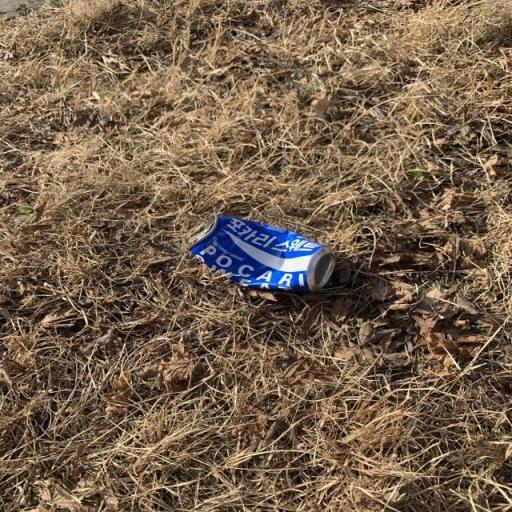metal: (166, 177, 356, 308)
